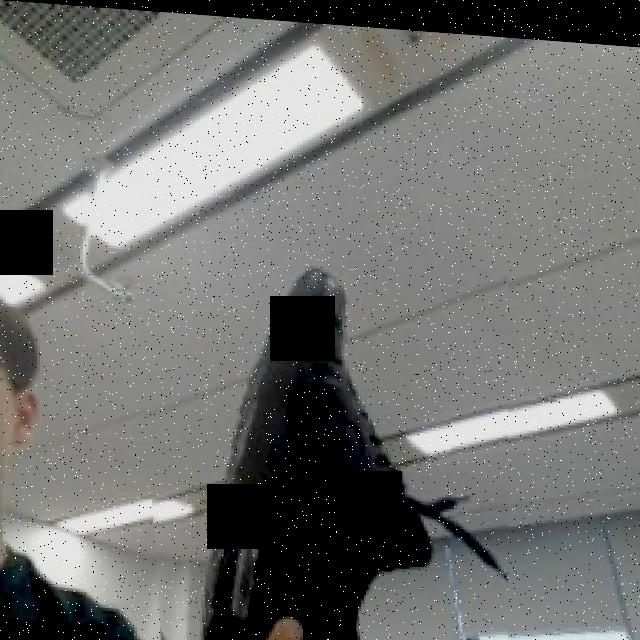shoe: (134, 233, 508, 640)
